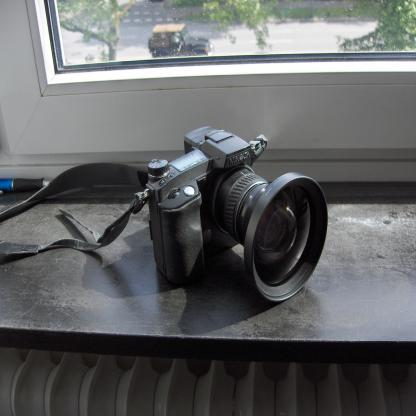Camera: (143, 124, 328, 304)
